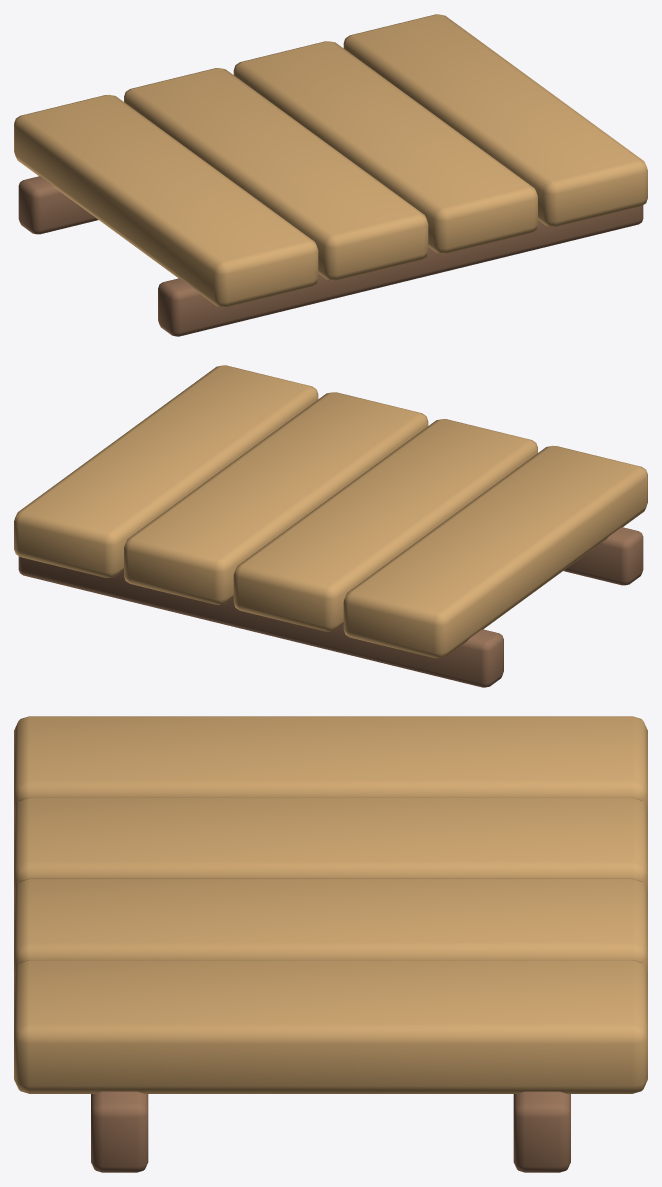
File: WoodPlatform.fbx
The picture shows the model from 3 angles, top to bottom: view 1: azimuth 30°, elevation 25°; view 2: azimuth 150°, elevation 25°; view 3: azimuth 270°, elevation 25°; orthographic projection. The views are drawn at different scales.
Visible parts, largest first — view 1: Plank, Plank.001, Plank.002, Plank.003, Beam.001, Beam; view 2: Plank, Plank.001, Plank.002, Plank.003, Beam, Beam.001; view 3: Plank.003, Plank.002, Plank.001, Plank, Beam, Beam.001.
Part boxes in pixels (left/top/right/bottom): Plank: left=14, top=94, right=318, bottom=307; Plank.001: left=124, top=68, right=428, bottom=280; Plank.002: left=233, top=41, right=537, bottom=253; Plank.003: left=343, top=14, right=647, bottom=226; Beam.001: left=158, top=205, right=643, bottom=336; Beam: left=18, top=176, right=98, bottom=234; Plank: left=343, top=445, right=647, bottom=658; Plank.001: left=233, top=419, right=537, bottom=631; Plank.002: left=124, top=392, right=428, bottom=604; Plank.003: left=14, top=365, right=318, bottom=577; Beam: left=18, top=556, right=503, bottom=687; Beam.001: left=563, top=527, right=643, bottom=585; Plank.003: left=14, top=960, right=647, bottom=1093; Plank.002: left=14, top=878, right=647, bottom=973; Plank.001: left=14, top=797, right=647, bottom=892; Plank: left=14, top=716, right=647, bottom=811; Beam: left=513, top=1091, right=570, bottom=1172; Beam.001: left=91, top=1091, right=148, bottom=1172.
Size of the model in its own units: 2.15 by 0.38 by 1.65.
